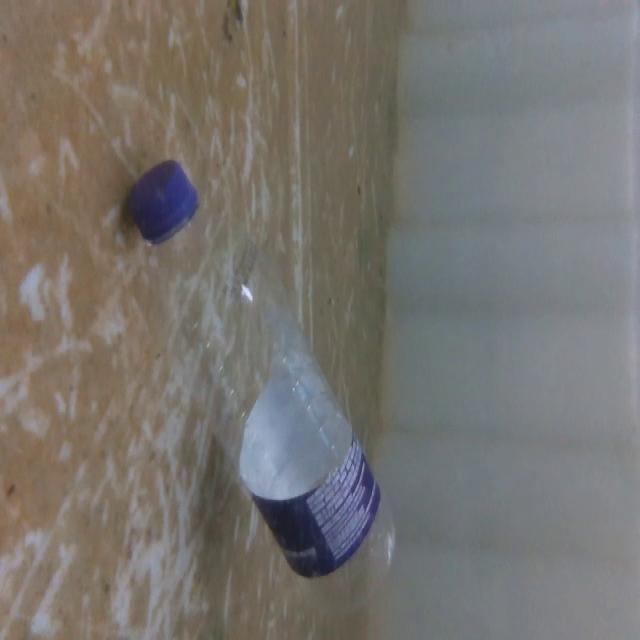plastic bottle: (118, 156, 401, 622)
